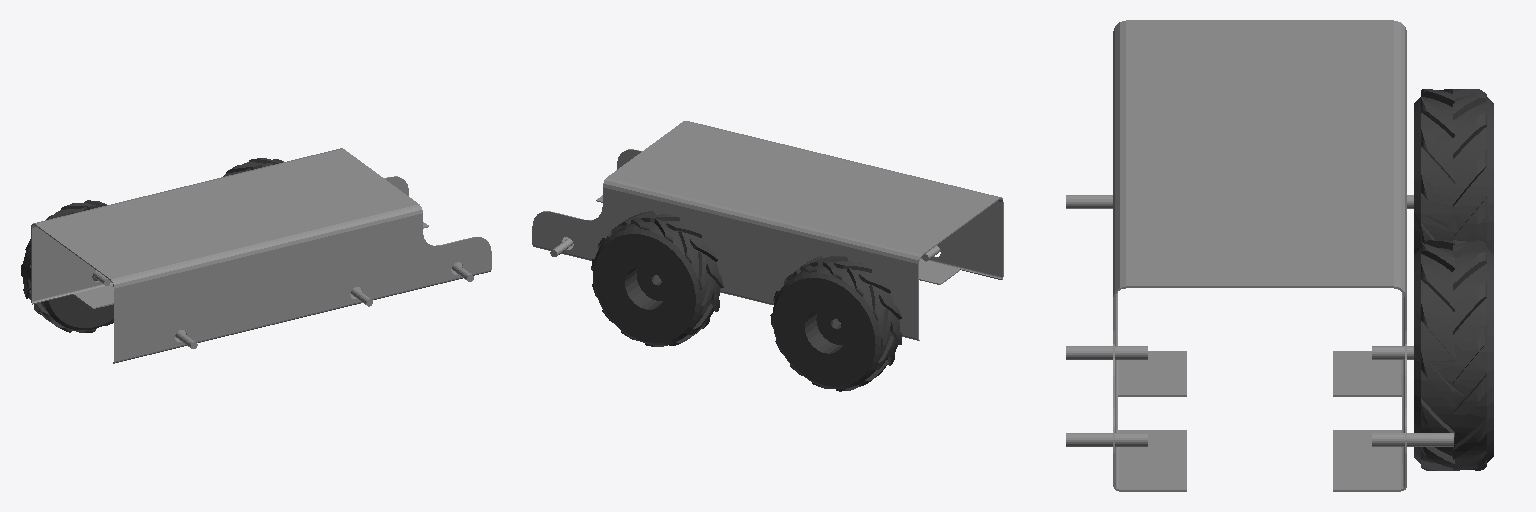
URDF robot description (my_robot_collision):
<?xml version="1.0" encoding="utf-8"?>
<!-- This URDF was automatically created by SolidWorks to URDF Exporter! Originally created by [author] ([email redacted]) 
     Commit Version: 1.6.0-1-g15f4949  Build Version: 1.6.7594.29634
     For more information, please see http://wiki.ros.org/sw_urdf_exporter -->
<robot
  name="my_robot_collision">
  <link
    name="base_link">
    <inertial>
      <origin
        xyz="0.057384 0.00028598 -0.089396"
        rpy="0 0 0" />
      <mass
        value="3.1224" />
      <inertia
        ixx="0.1213"
        ixy="-1.2929E-15"
        ixz="0.019566"
        iyy="0.30367"
        iyz="4.1462E-16"
        izz="0.37482" />
    </inertial>
    <visual>
      <origin
        xyz="0 0 0"
        rpy="0 0 0" />
      <geometry>
        <mesh
          filename="package://my_robot_collision/meshes/base_link.STL" />
      </geometry>
      <material
        name="">
        <color
          rgba="0.6 0.6 0.6 1" />
      </material>
    </visual>
    <collision>
      <origin
        xyz="0 0 0"
        rpy="0 0 0" />
      <geometry>
        <mesh
          filename="package://my_robot_collision/meshes/base_link.STL" />
      </geometry>
    </collision>
  </link>
  <link
    name="left_front_wheel">
    <inertial>
      <origin
        xyz="-0.0029842 -0.0025408 -0.055741"
        rpy="0 0 0" />
      <mass
        value="9.1523" />
      <inertia
        ixx="0.076"
        ixy="3.4694E-18"
        ixz="-1.8614E-16"
        iyy="0.076"
        iyz="-6.6273E-17"
        izz="0.13212" />
    </inertial>
    <visual>
      <origin
        xyz="0 0 0"
        rpy="0 0 0" />
      <geometry>
        <mesh
          filename="package://my_robot_collision/meshes/left_front_wheel.STL" />
      </geometry>
      <material
        name="">
        <color
          rgba="0.29804 0.29804 0.29804 1" />
      </material>
    </visual>
    <collision>
      <origin
        xyz="0 0 0"
        rpy="0 0 0" />
      <geometry>
        <mesh
          filename="package://my_robot_collision/meshes/left_front_wheel.STL" />
      </geometry>
    </collision>
  </link>
  <joint
    name="left_front_wheel_joint"
    type="continuous">
    <origin
      xyz="0.256 0.22035 -0.1953"
      rpy="-1.5708 1.2311 -3.1416" />
    <parent
      link="base_link" />
    <child
      link="left_front_wheel" />
    <axis
      xyz="0 0 1" />
  </joint>
  <link
    name="left_rear_wheel">
    <inertial>
      <origin
        xyz="0.0025131 -0.0030076 -0.055741"
        rpy="0 0 0" />
      <mass
        value="9.1523" />
      <inertia
        ixx="0.076"
        ixy="-3.4694E-18"
        ixz="6.2837E-17"
        iyy="0.076"
        iyz="-1.8591E-16"
        izz="0.13212" />
    </inertial>
    <visual>
      <origin
        xyz="0 0 0"
        rpy="0 0 0" />
      <geometry>
        <mesh
          filename="package://my_robot_collision/meshes/left_rear_wheel.STL" />
      </geometry>
      <material
        name="">
        <color
          rgba="0.29804 0.29804 0.29804 1" />
      </material>
    </visual>
    <collision>
      <origin
        xyz="0 0 0"
        rpy="0 0 0" />
      <geometry>
        <mesh
          filename="package://my_robot_collision/meshes/left_rear_wheel.STL" />
      </geometry>
    </collision>
  </link>
  <joint
    name="left_rear_wheel_joint"
    type="continuous">
    <origin
      xyz="-0.256 0.22035 -0.1953"
      rpy="-1.5708 -0.33051 3.1416" />
    <parent
      link="base_link" />
    <child
      link="left_rear_wheel" />
    <axis
      xyz="0 0 1" />
  </joint>
  <link
    name="right_rear_wheel">
    <inertial>
      <origin
        xyz="-0.0030853 0.0024171 -0.055169"
        rpy="0 0 0" />
      <mass
        value="9.1523" />
      <inertia
        ixx="0.076"
        ixy="0"
        ixz="-1.8538E-16"
        iyy="0.076"
        iyz="5.6476E-17"
        izz="0.13212" />
    </inertial>
    <visual>
      <origin
        xyz="0 0 0"
        rpy="0 0 0" />
      <geometry>
        <mesh
          filename="package://my_robot_collision/meshes/right_rear_wheel.STL" />
      </geometry>
      <material
        name="">
        <color
          rgba="0.29804 0.29804 0.29804 1" />
      </material>
    </visual>
    <collision>
      <origin
        xyz="0 0 0"
        rpy="0 0 0" />
      <geometry>
        <mesh
          filename="package://my_robot_collision/meshes/right_rear_wheel.STL" />
      </geometry>
    </collision>
  </link>
  <joint
    name="right_rear_wheel_joint"
    type="continuous">
    <origin
      xyz="-0.256 -0.22035 -0.1953"
      rpy="1.5708 1.2718 -3.1416" />
    <parent
      link="base_link" />
    <child
      link="right_rear_wheel" />
    <axis
      xyz="0 0 1" />
  </joint>
  <link
    name="right_front_wheel">
    <inertial>
      <origin
        xyz="2.2204E-16 2.7756E-17 0.058845"
        rpy="0 0 0" />
      <mass
        value="9.1523" />
      <inertia
        ixx="0.076"
        ixy="0"
        ixz="1.9302E-16"
        iyy="0.076"
        iyz="2.3818E-17"
        izz="0.13212" />
    </inertial>
    <visual>
      <origin
        xyz="0 0 0"
        rpy="0 0 0" />
      <geometry>
        <mesh
          filename="package://my_robot_collision/meshes/right_front_wheel.STL" />
      </geometry>
      <material
        name="">
        <color
          rgba="0.29804 0.29804 0.29804 1" />
      </material>
    </visual>
    <collision>
      <origin
        xyz="0 0 0"
        rpy="0 0 0" />
      <geometry>
        <mesh
          filename="package://my_robot_collision/meshes/right_front_wheel.STL" />
      </geometry>
    </collision>
  </link>
  <joint
    name="right_front_wheel_joint"
    type="continuous">
    <origin
      xyz="0.256 -0.33465 -0.1953"
      rpy="1.5708 -1.4489 3.1416" />
    <parent
      link="base_link" />
    <child
      link="right_front_wheel" />
    <axis
      xyz="0 0 1" />
  </joint>
</robot>

--- Facts derived from the render (not from the file) ---
The picture shows the robot from 3 angles, left to right: view 1: azimuth 30°, elevation 25°; view 2: azimuth 150°, elevation 25°; view 3: azimuth 270°, elevation 25°; orthographic projection.
Robot: my_robot_collision — 5 links, 4 joints (4 continuous); root link base_link; default pose: all joints at 0.
Visible links, largest first — view 1: base_link, left_rear_wheel; view 2: base_link, left_rear_wheel, left_front_wheel; view 3: base_link, left_front_wheel, left_rear_wheel.
Link boxes in pixels (x1,y1,x2,y2): base_link: [31, 148, 491, 363]; left_rear_wheel: [21, 200, 113, 332]; base_link: [532, 121, 1003, 340]; left_rear_wheel: [770, 256, 901, 391]; left_front_wheel: [591, 211, 723, 346]; base_link: [1066, 20, 1453, 491]; left_front_wheel: [1414, 240, 1493, 470]; left_rear_wheel: [1414, 89, 1493, 253].
Bounding box of the posed robot: 1.1 × 0.6119 × 0.364 m (x, y, z).
3 mesh visuals loaded from 5 distinct referenced files (3 binary STL); not drawn: 2 (reference not matched to a file when rendering).